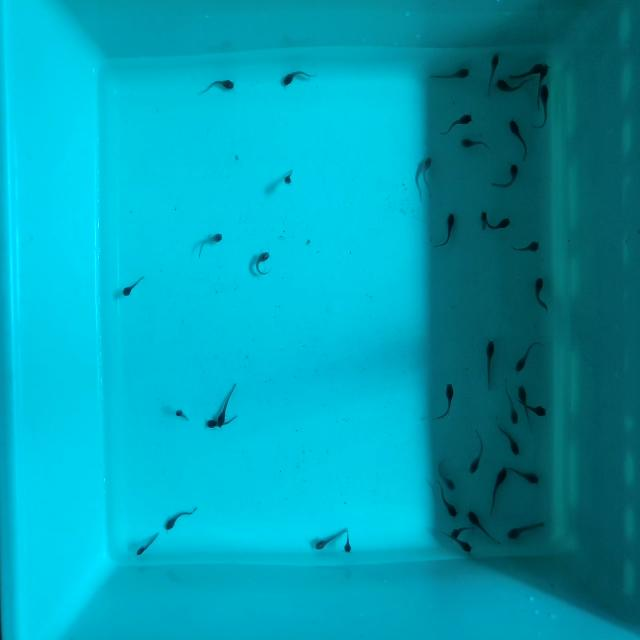lele: (468, 510, 502, 543), (490, 466, 509, 514), (516, 340, 544, 371), (508, 117, 528, 158), (508, 520, 545, 542), (437, 458, 458, 495), (165, 506, 197, 530), (441, 110, 473, 134), (313, 529, 346, 551), (218, 382, 234, 427), (438, 382, 456, 422), (499, 426, 522, 457), (470, 432, 485, 475), (504, 382, 518, 426), (435, 494, 460, 518), (484, 340, 496, 390), (419, 156, 434, 196), (496, 162, 520, 187), (122, 274, 145, 300), (136, 532, 159, 558), (442, 211, 458, 248), (511, 59, 540, 79), (199, 232, 224, 255), (534, 279, 550, 314), (485, 53, 500, 90), (282, 70, 316, 86), (513, 466, 540, 486), (518, 381, 530, 425), (461, 135, 491, 152), (496, 80, 530, 95), (203, 416, 240, 429), (435, 66, 469, 80), (256, 251, 274, 277), (514, 238, 540, 256), (540, 83, 549, 130), (204, 78, 234, 92), (450, 538, 474, 555), (539, 59, 554, 86), (489, 217, 511, 232), (175, 408, 193, 426), (451, 526, 477, 538), (343, 526, 353, 555), (528, 401, 546, 417), (478, 207, 488, 234), (284, 168, 295, 186)
